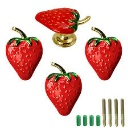strawberry: (41, 70, 84, 117), (82, 36, 123, 82), (3, 35, 43, 81), (32, 7, 81, 35)
